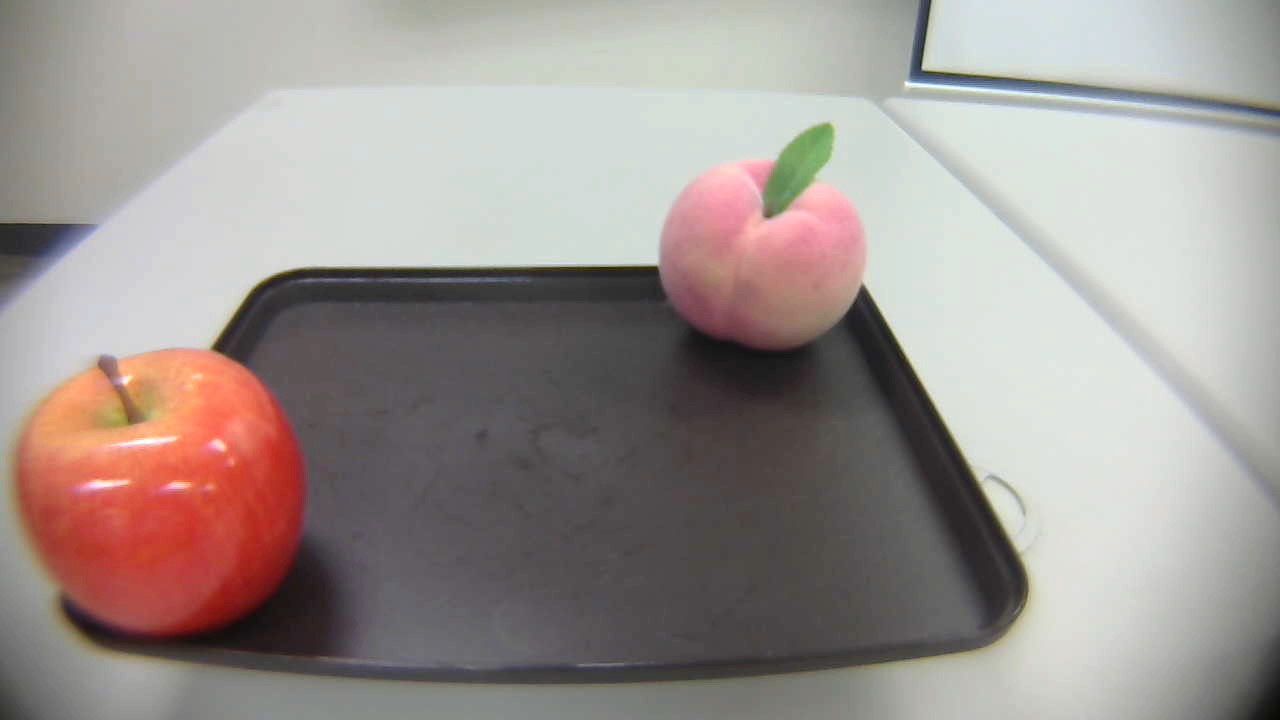peach: (644, 109, 881, 379)
red apple: (5, 347, 323, 645)
